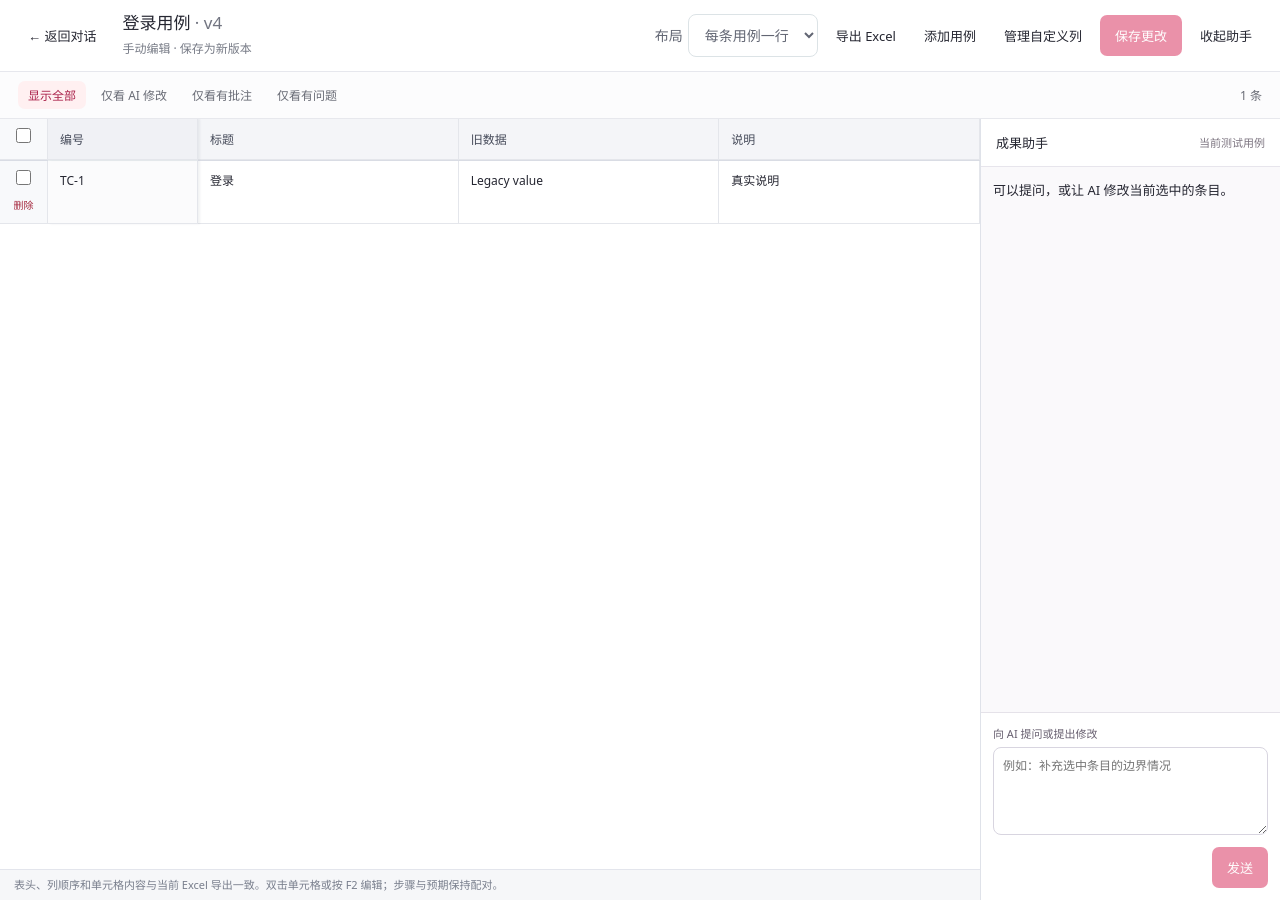
Test: reset after removing a middle custom column restores coherent headers and cell values
expect the table named "测试用例工作表" is shown: met, box [0,119,980,224]
Click the button "管理自定义列". click: (1043, 36)
box: [994,18,1092,53]
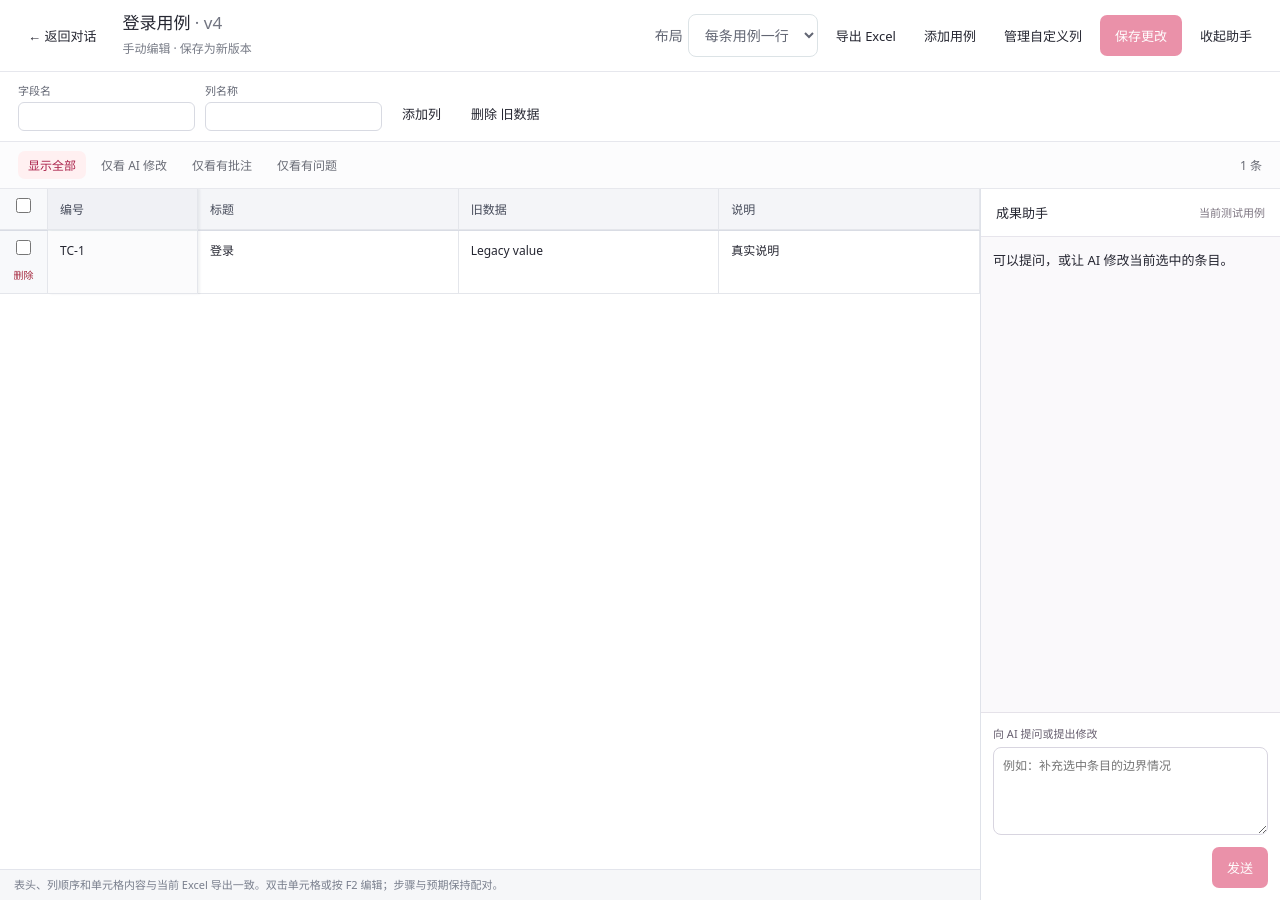
Click the button with aria-label "删除列 旧数据". click: (505, 113)
box: [461,96,549,131]
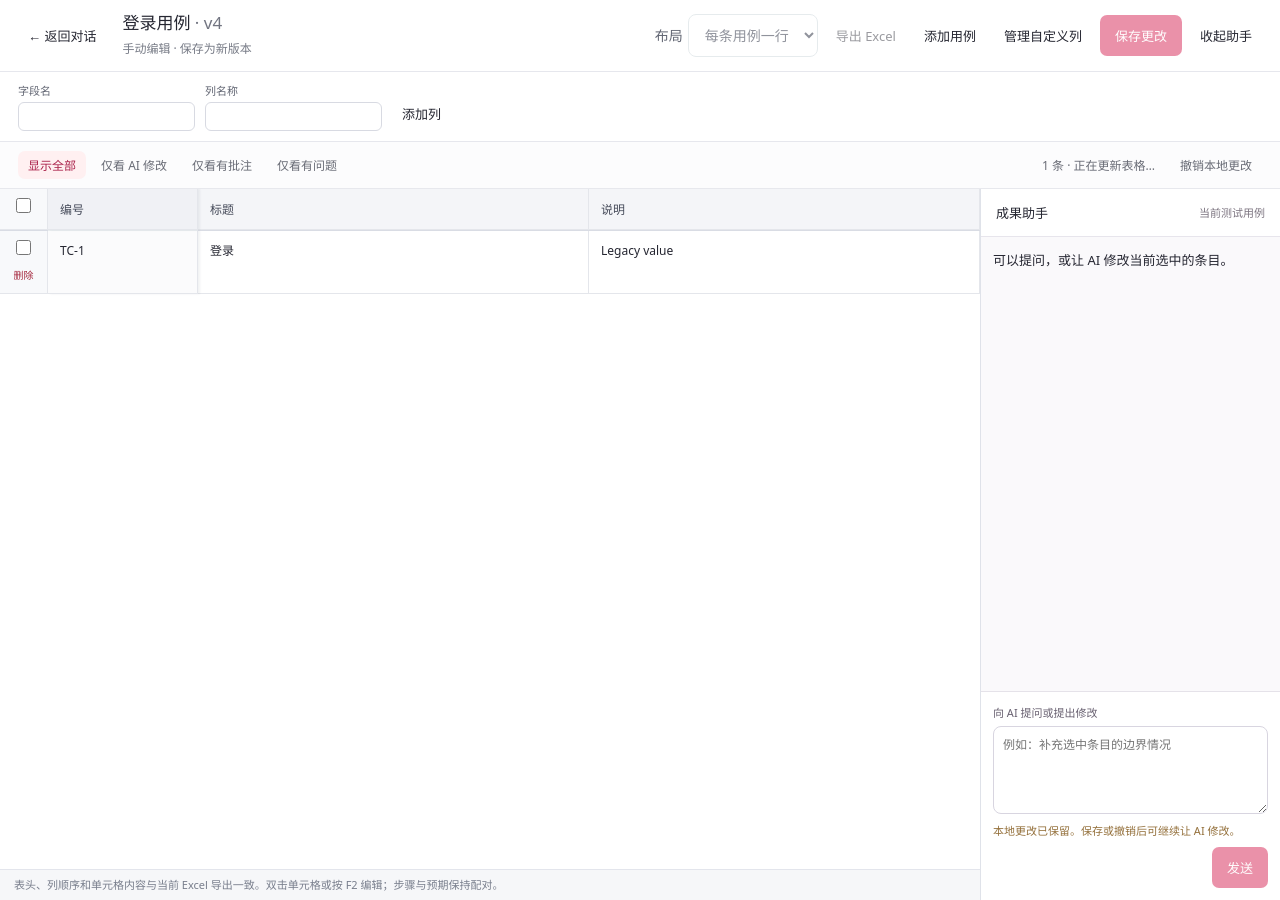
expect the button "旧数据" is gone: met
Click the button "撤销本地更改". click: (1216, 165)
box: [1170,151,1262,179]
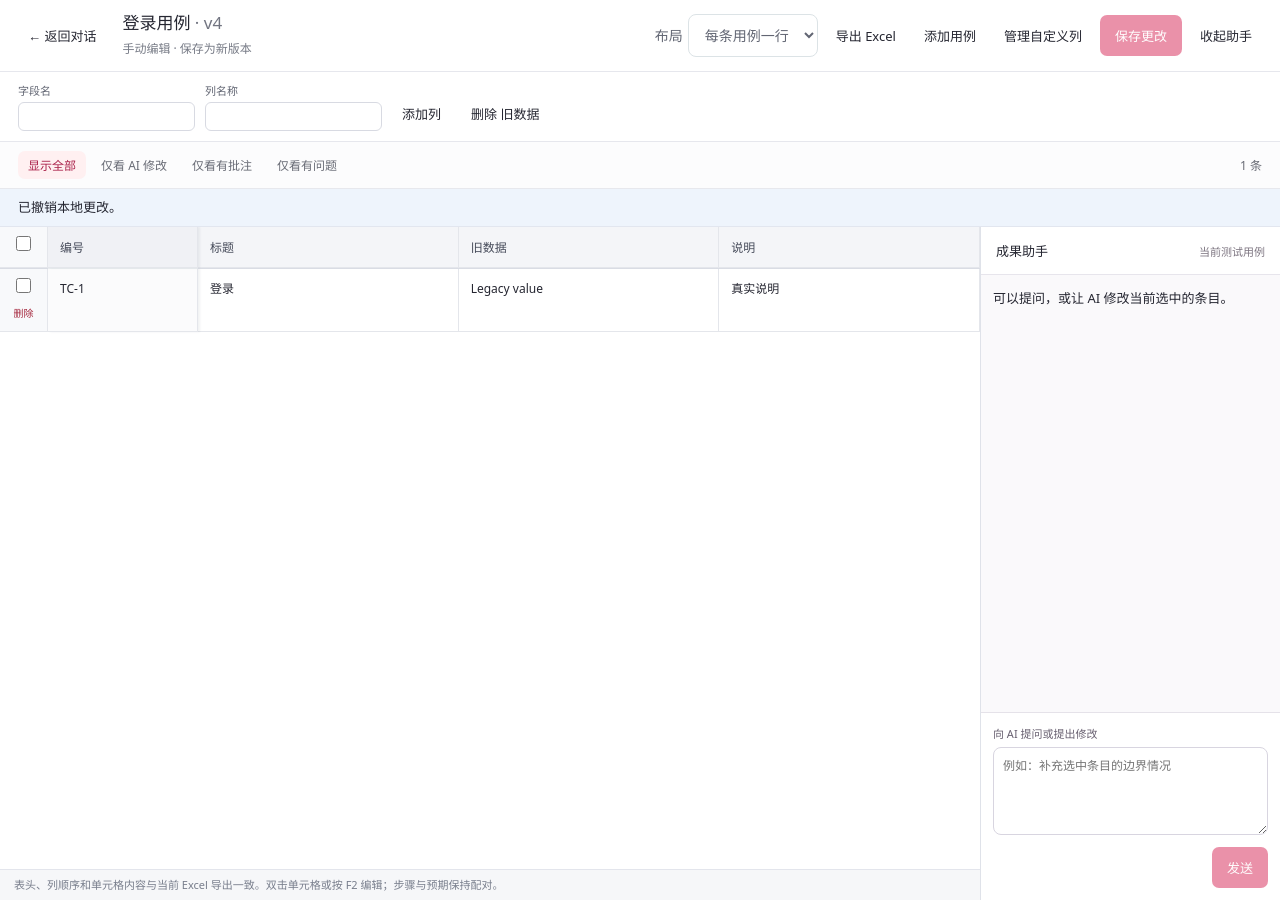
expect the text "Legacy value" is shown: met, box [471,280,543,297]
expect the column heading "旧数据" is shown: met, box [459,227,719,268]
expect the text "真实说明" is shown: met, box [731,280,779,297]
